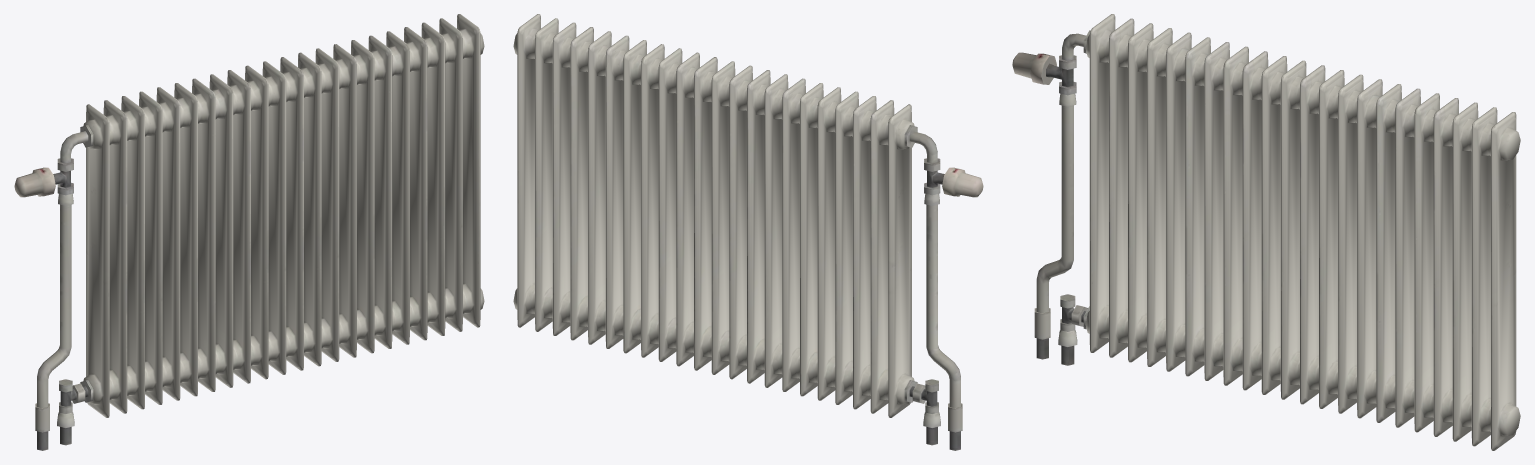
Rendered from old_radiator.glb.
3 renders of one model, left to right at view 1: azimuth 30°, elevation 25°; view 2: azimuth 150°, elevation 25°; view 3: azimuth 330°, elevation 25°, orthographic. The views are drawn at different scales.
Visible parts, largest first — view 1: Complete; view 2: Complete; view 3: Complete.
Part boxes in pixels (left/top/right/bottom): Complete: left=14, top=14, right=484, bottom=450; Complete: left=513, top=14, right=983, bottom=450; Complete: left=1012, top=14, right=1520, bottom=450.
Bounding box in the file's own units: 0.9093 × 0.611 × 0.0757.
1 material, 1 textured.
